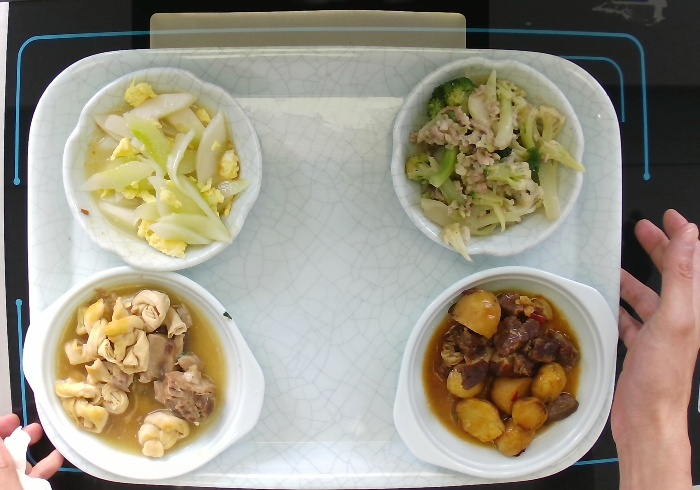JYsf-Ao_Yuan_Wan: (57, 62, 269, 275), (386, 51, 591, 259)
JYsf-Shuang_Er_Pan: (19, 261, 270, 484), (388, 261, 623, 484)
